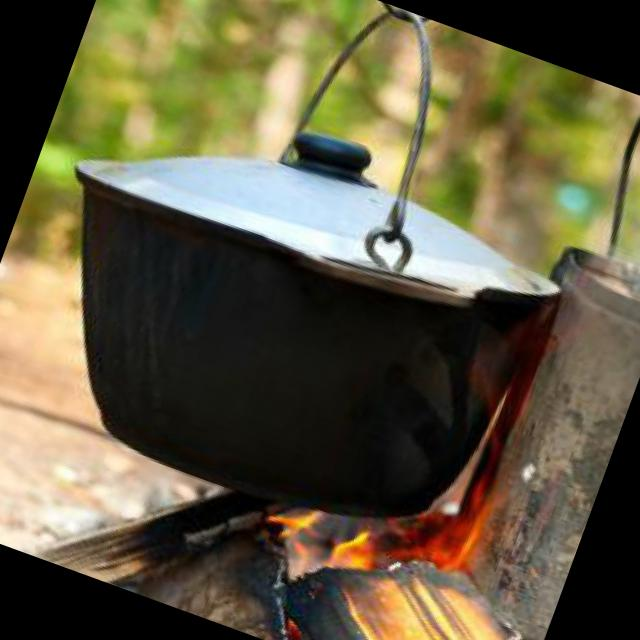fire: (264, 423, 528, 630)
